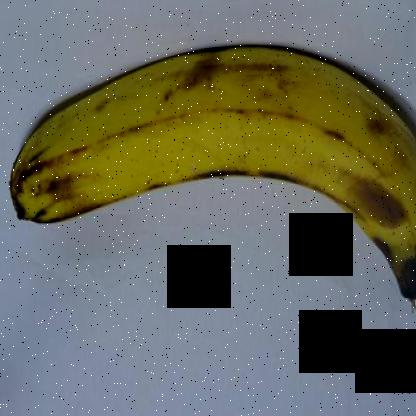ripe: (9, 24, 415, 331)
